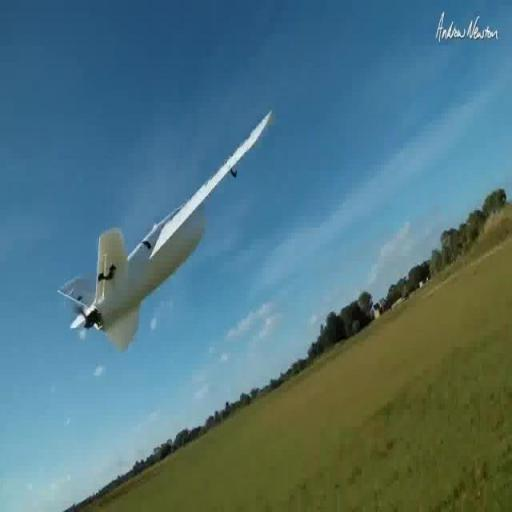uav: (46, 90, 294, 386)
